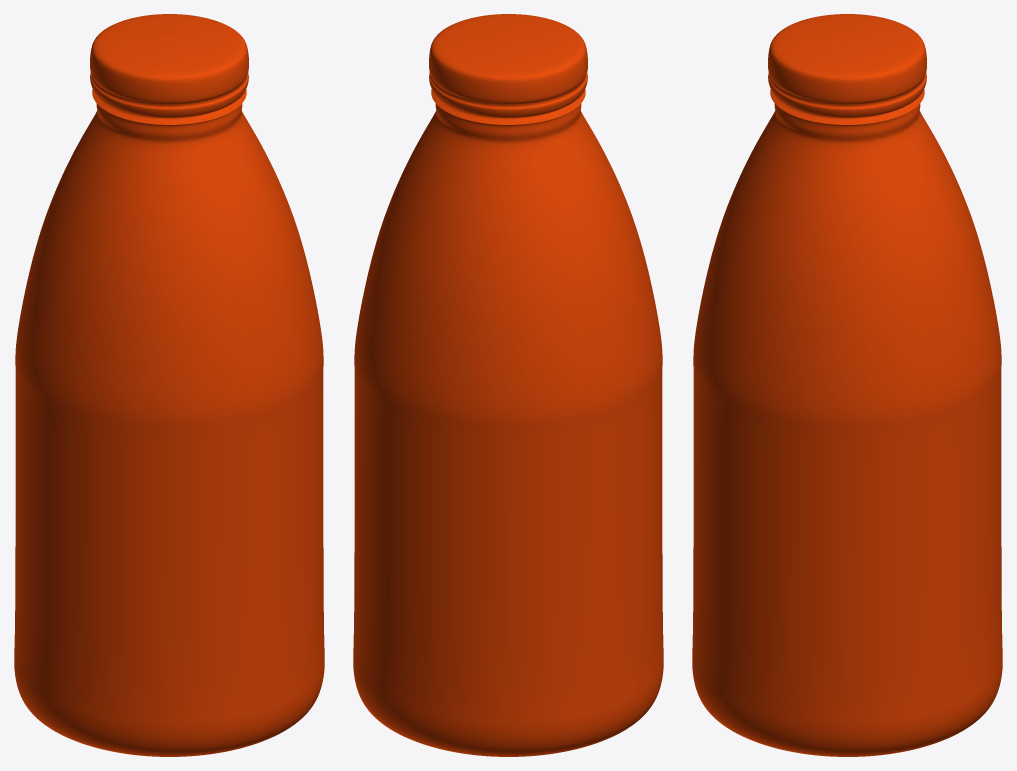
File: MIlk.fbx
3 views of the same model, side by side, from view 1: azimuth 30°, elevation 25°; view 2: azimuth 150°, elevation 25°; view 3: azimuth 270°, elevation 25° (orthographic).
Visible parts, largest first — view 1: Cube; view 2: Cube; view 3: Cube.
Boxes of the visible parts, box(x1,y1,x2,y2) form: Cube: box(14, 14, 324, 756); Cube: box(353, 14, 663, 756); Cube: box(692, 14, 1002, 756).
Bounding box in the file's own units: 648 × 1557 × 648.
